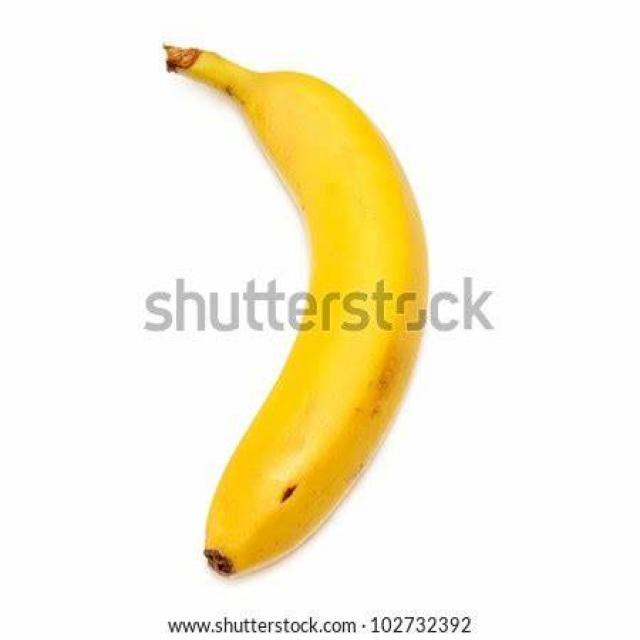Banana: (158, 38, 434, 572)
